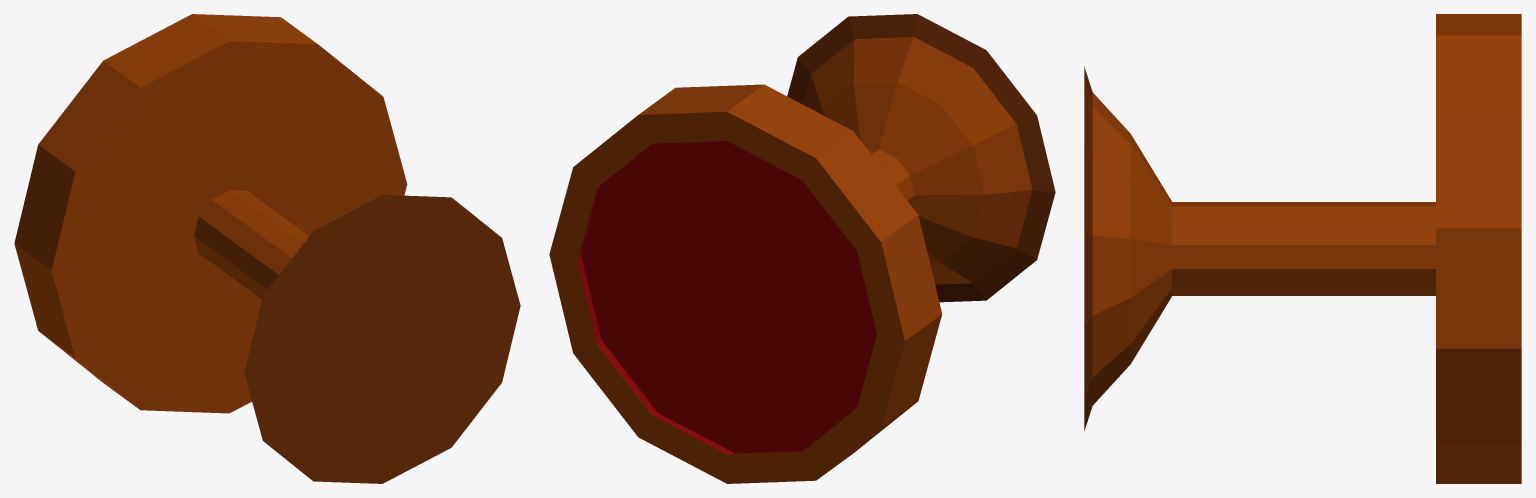
File: Small_Table.fbx
3 views of the same model, side by side, from view 1: azimuth 30°, elevation 25°; view 2: azimuth 150°, elevation 25°; view 3: azimuth 270°, elevation 25° (orthographic). The views are drawn at different scales.
Parts seen in each view (by area): view 1: Base_Mesh_SmallTable; view 2: Base_Mesh_SmallTable; view 3: Base_Mesh_SmallTable.
Boxes of the visible parts, x1,y1,x2,y2 form: Base_Mesh_SmallTable: (14,14,520,483); Base_Mesh_SmallTable: (549,14,1055,483); Base_Mesh_SmallTable: (1084,14,1521,483).
Size of the model in its own units: 127 by 127 by 118.
